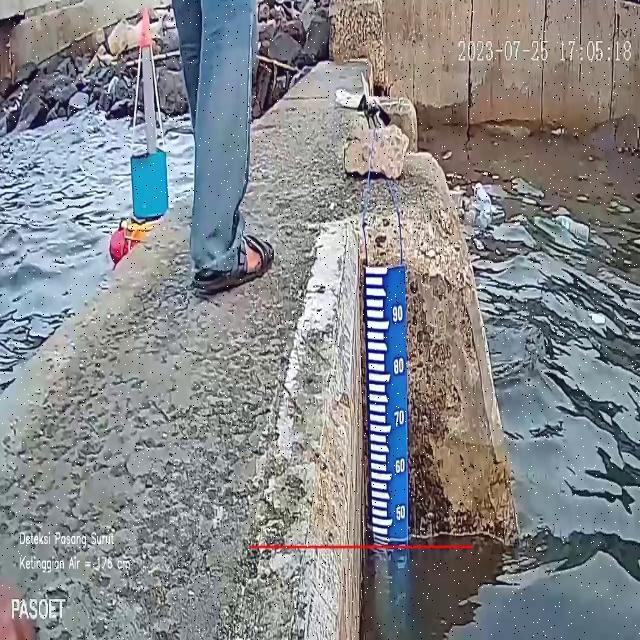50: (396, 504, 406, 522)
60: (394, 456, 405, 474)
70: (394, 407, 404, 428)
80: (394, 357, 404, 374)
90: (392, 304, 403, 324)
staff: (366, 267, 408, 541)
